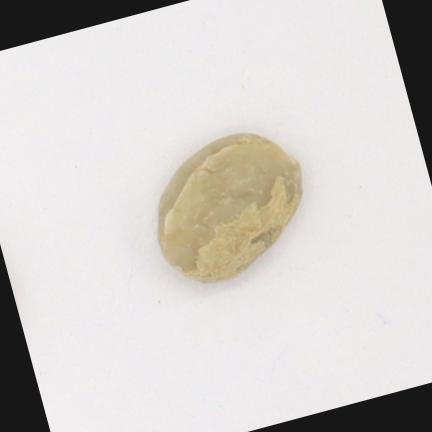immature: (157, 134, 301, 281)
